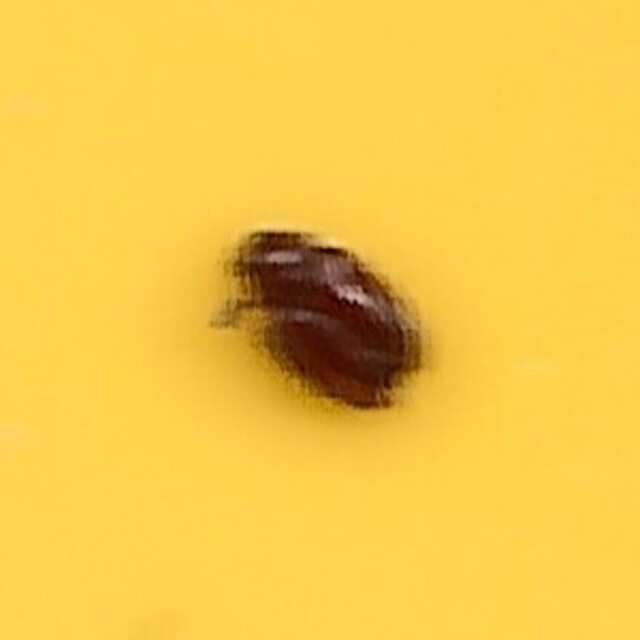Coleoptera: (213, 224, 427, 416)
